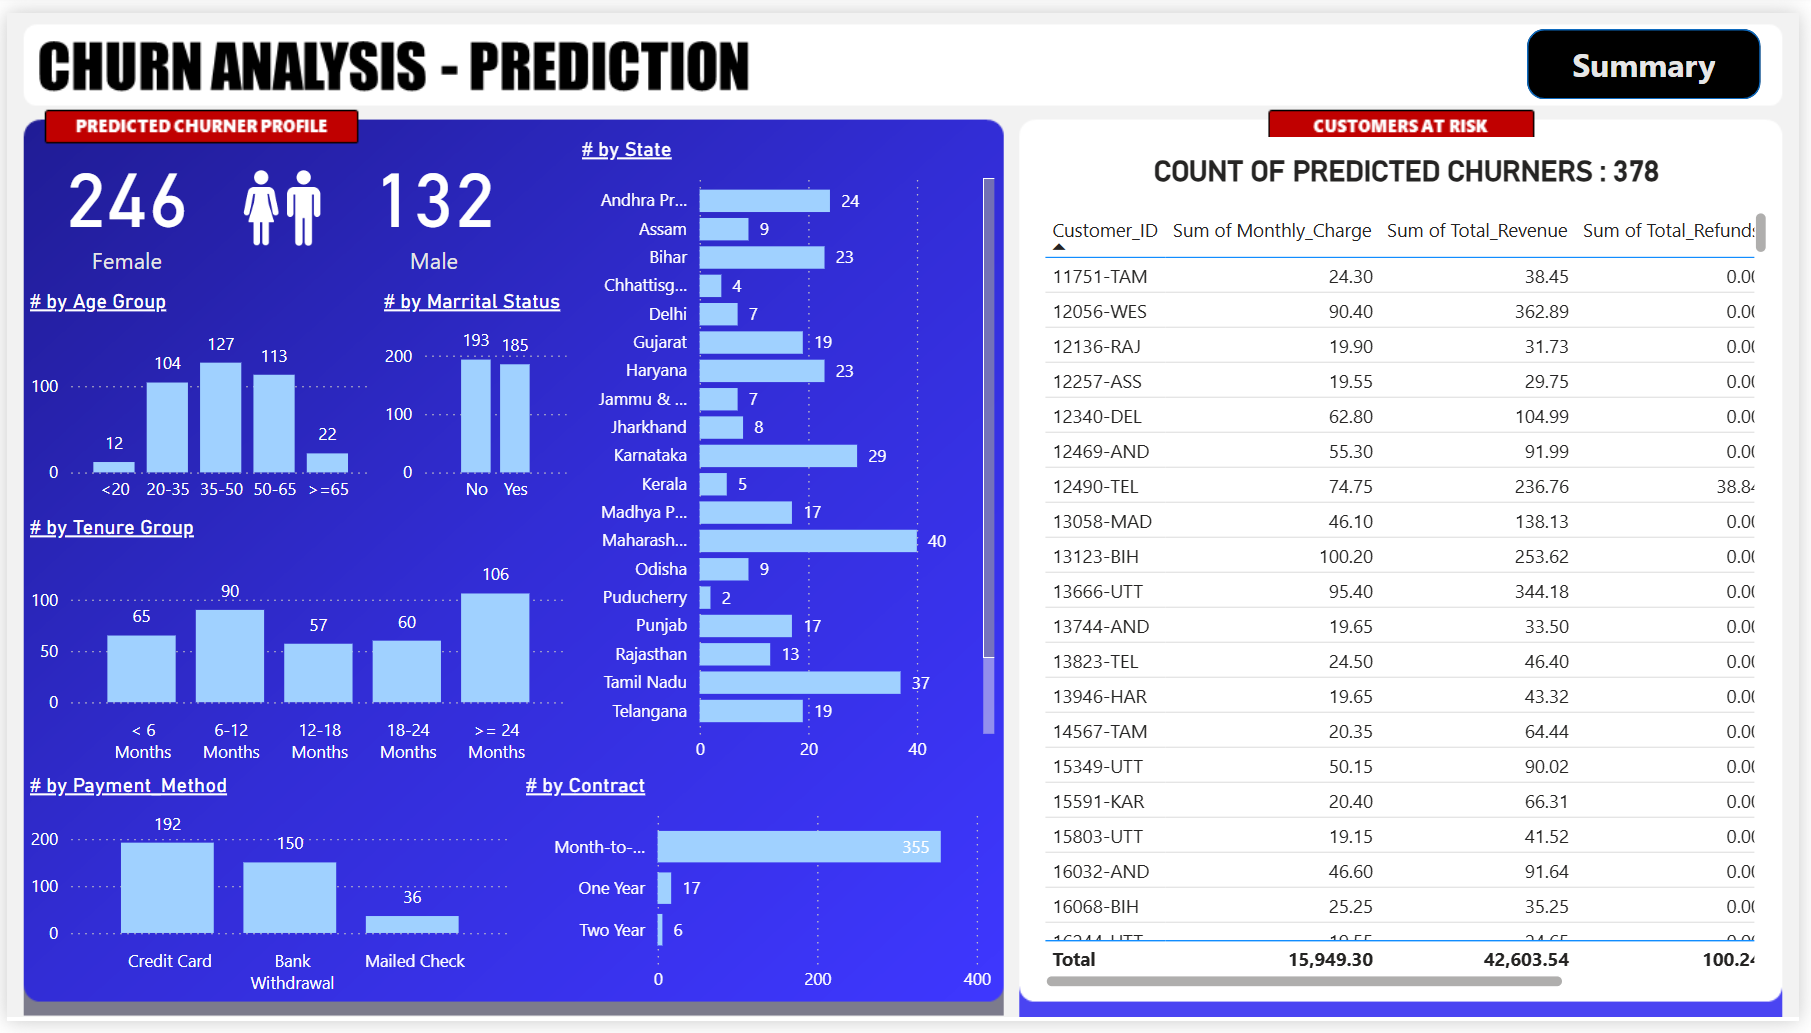

The page's visual inventory and layout, read from the dashboard file:
{"tool":"powerbi","page":{"name":"Churn Prediction","canvas":[1280,720],"ordinal":1},"visuals":[{"type":"tableEx","fields":{"Values":["Prediction_Data.Customer_ID","Sum(Prediction_Data.Monthly_Charge)","Sum(Prediction_Data.Total_Revenue)","Sum(Prediction_Data.Total_Refunds)","Sum(Prediction_Data.Number_of_Referrals)"]},"box":[735.6,137.7,526.6,563.8],"z":0},{"type":"card","fields":{"Values":["Measures_Table.Title Predicted Churners"]},"box":[808.5,89.1,382.4,48.6],"z":1000},{"type":"card","fields":{"Values":["Measures_Table.Count Predicted Churners"]},"box":[1.4,55.7,168.6,164.3],"z":2000},{"type":"card","fields":{"Values":["Measures_Table.Count Predicted Churners"]},"box":[220,55.7,170,164.3],"z":3000},{"type":"clusteredColumnChart","fields":{"Category":["map_AgeGroup.Age Group"],"Y":["CountNonNull(Prediction_Data.Customer_ID)"]},"box":[11.2,197.7,253.4,161],"z":4000},{"type":"clusteredColumnChart","fields":{"Category":["map_TenureGroup.Tenure Group"],"Y":["CountNonNull(Prediction_Data.Customer_ID)"]},"box":[11.3,358.1,393.7,184.7],"z":5000},{"type":"clusteredColumnChart","fields":{"Category":["Prediction_Data.Married"],"Y":["CountNonNull(Prediction_Data.Customer_ID)"]},"box":[264.6,197.7,140.3,161],"z":6000},{"type":"clusteredColumnChart","fields":{"Y":["CountNonNull(Prediction_Data.Customer_ID)"],"Category":["Prediction_Data.Payment_Method"]},"box":[11.3,542.8,354.8,165.3],"z":7000},{"type":"clusteredBarChart","fields":{"Category":["Prediction_Data.Contract"],"Y":["CountNonNull(Prediction_Data.Customer_ID)"]},"box":[366.2,542.8,343.5,165.3],"z":8000},{"type":"clusteredBarChart","fields":{"Category":["Prediction_Data.State"],"Y":["CountNonNull(Prediction_Data.Customer_ID)"]},"box":[405.1,89.1,304.6,455.3],"z":9000},{"type":"image","box":[157.1,98.6,78.6,80],"z":9001},{"type":"shape","box":[1085.6,11.3,166.9,50.2],"z":9002}]}

Visuals, with their boxes in screenshot pixels (x1, y1, x2, y2), scaled from the page's 1280x720 canvas onto the 1811x1033 screenshot:
tableEx - Prediction_Data.Customer_ID x Sum(Prediction_Data.Monthly_Charge): bbox=(1041, 198, 1786, 1006)
card - Measures_Table.Title Predicted Churners: bbox=(1144, 128, 1685, 198)
card - Measures_Table.Count Predicted Churners: bbox=(2, 80, 241, 316)
card - Measures_Table.Count Predicted Churners: bbox=(311, 80, 552, 316)
clusteredColumnChart - map_AgeGroup.Age Group x CountNonNull(Prediction_Data.Customer_ID): bbox=(16, 284, 374, 515)
clusteredColumnChart - map_TenureGroup.Tenure Group x CountNonNull(Prediction_Data.Customer_ID): bbox=(16, 514, 573, 779)
clusteredColumnChart - Prediction_Data.Married x CountNonNull(Prediction_Data.Customer_ID): bbox=(374, 284, 573, 515)
clusteredColumnChart - CountNonNull(Prediction_Data.Customer_ID) x Prediction_Data.Payment_Method: bbox=(16, 779, 518, 1016)
clusteredBarChart - Prediction_Data.Contract x CountNonNull(Prediction_Data.Customer_ID): bbox=(518, 779, 1004, 1016)
clusteredBarChart - Prediction_Data.State x CountNonNull(Prediction_Data.Customer_ID): bbox=(573, 128, 1004, 781)
image: bbox=(222, 141, 333, 256)
shape: bbox=(1536, 16, 1772, 88)
